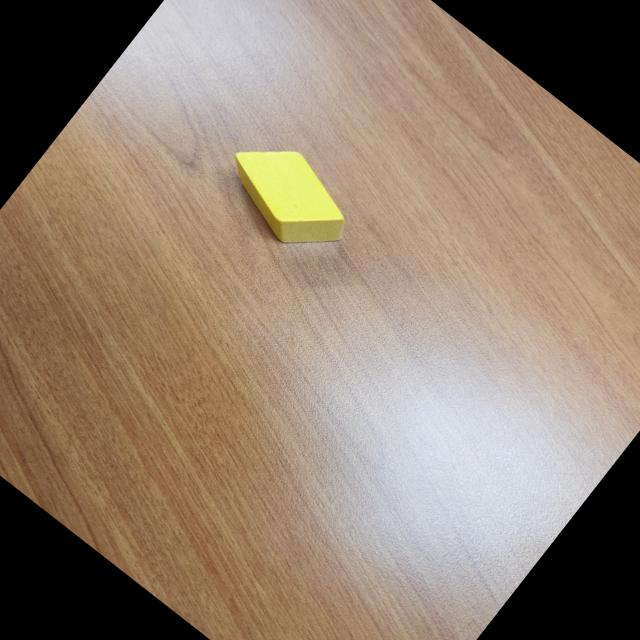yellow: (209, 121, 369, 272)
